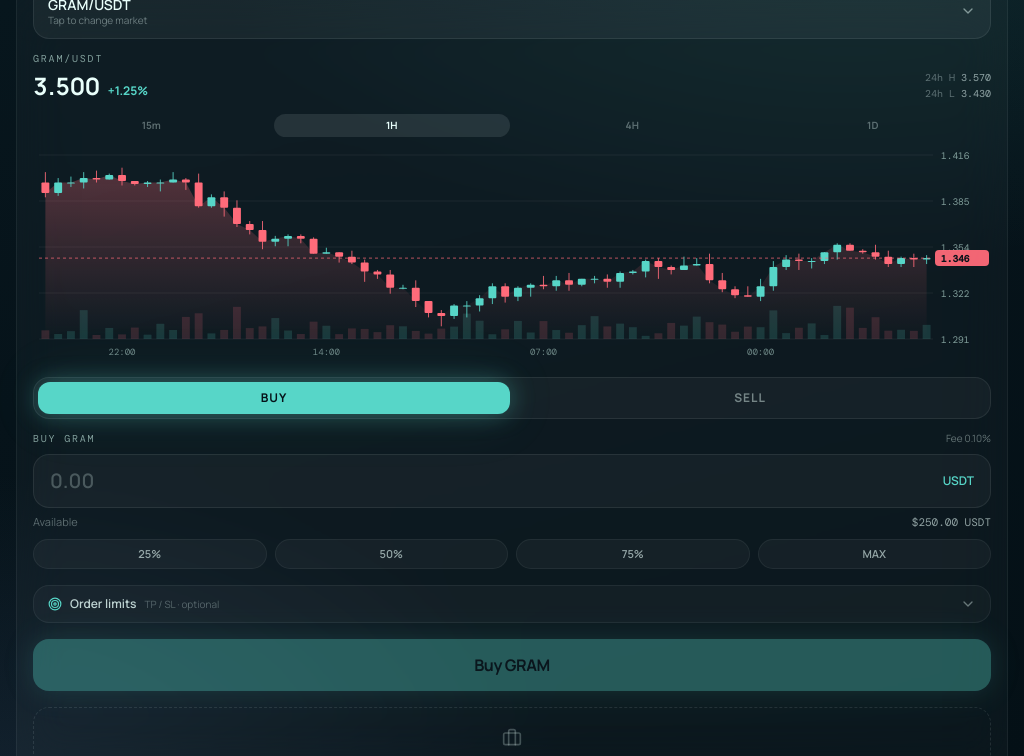
Test case: selling › shows the whole position as the amount to sell
(page scrolled)
Expected: the element with test id "trade-available-balance" shows "$250.00", [912, 515, 958, 529]
Step 1. Type "50" into the number field with test id "trade-amount-input" → [492, 481], box [50, 467, 935, 495]
(page scrolled)
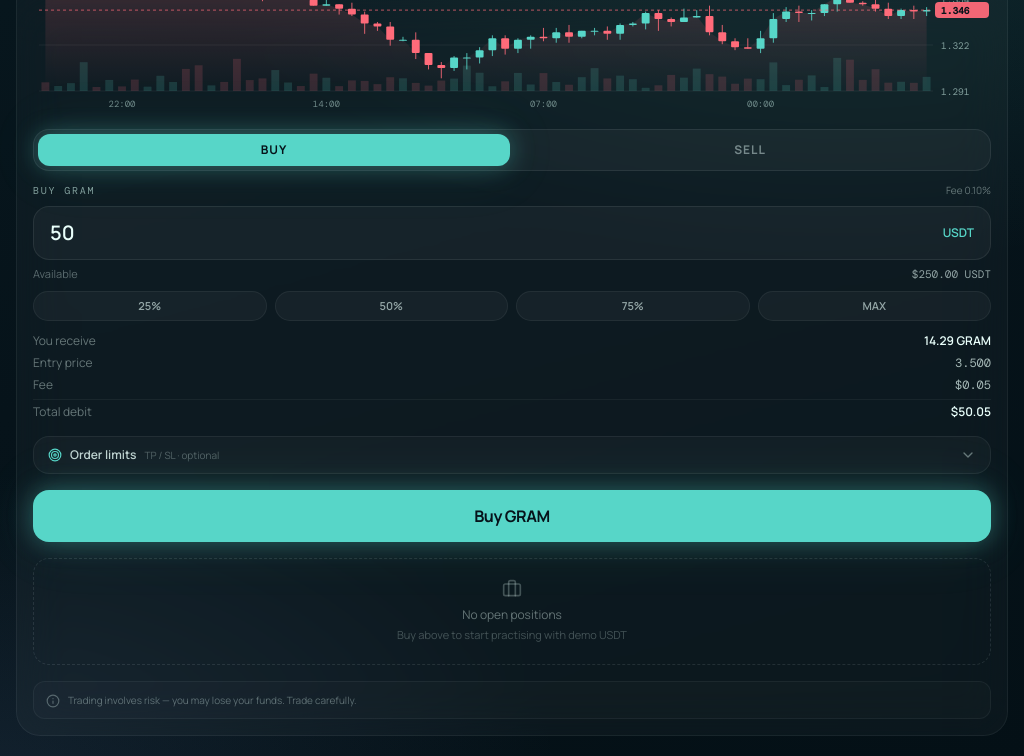
Expected: the text with test id "trade-preview-qty" reads "14.29 GRAM", [924, 333, 991, 349]
Step 2. Click the button with test id "trade-buy-submit" → [512, 516], box [33, 490, 991, 542]
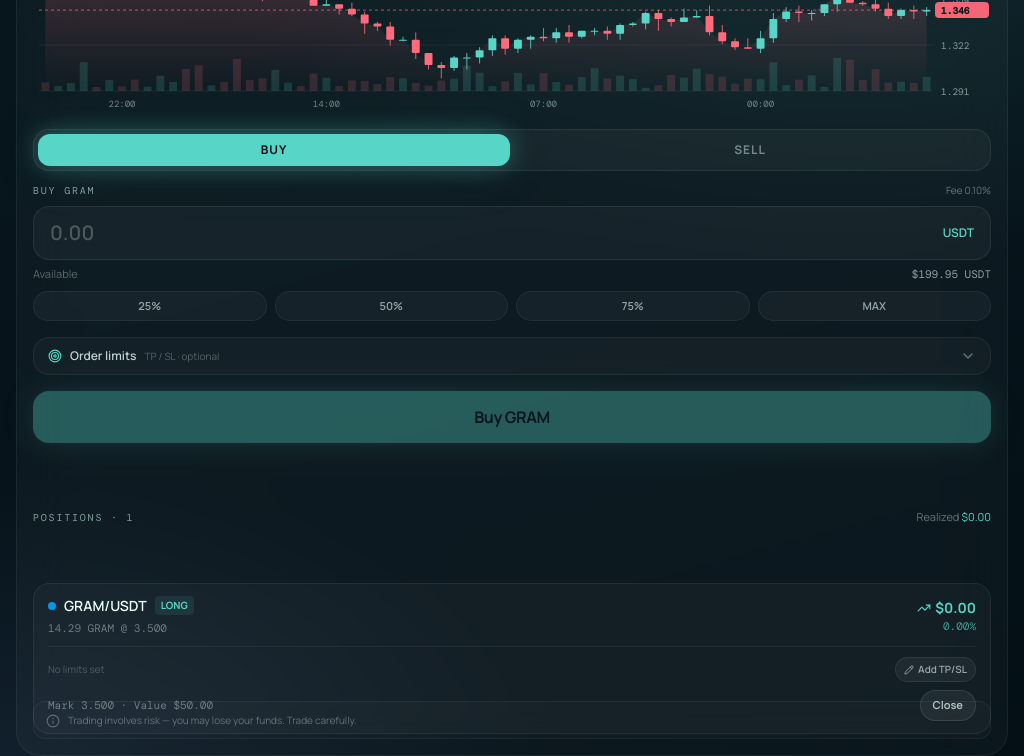
Expected: the element with test id "position-TONUSDT" is shown, [33, 582, 991, 734]
Step 3. Click the button with test id "trade-side-sell" → [750, 150], box [514, 134, 986, 166]
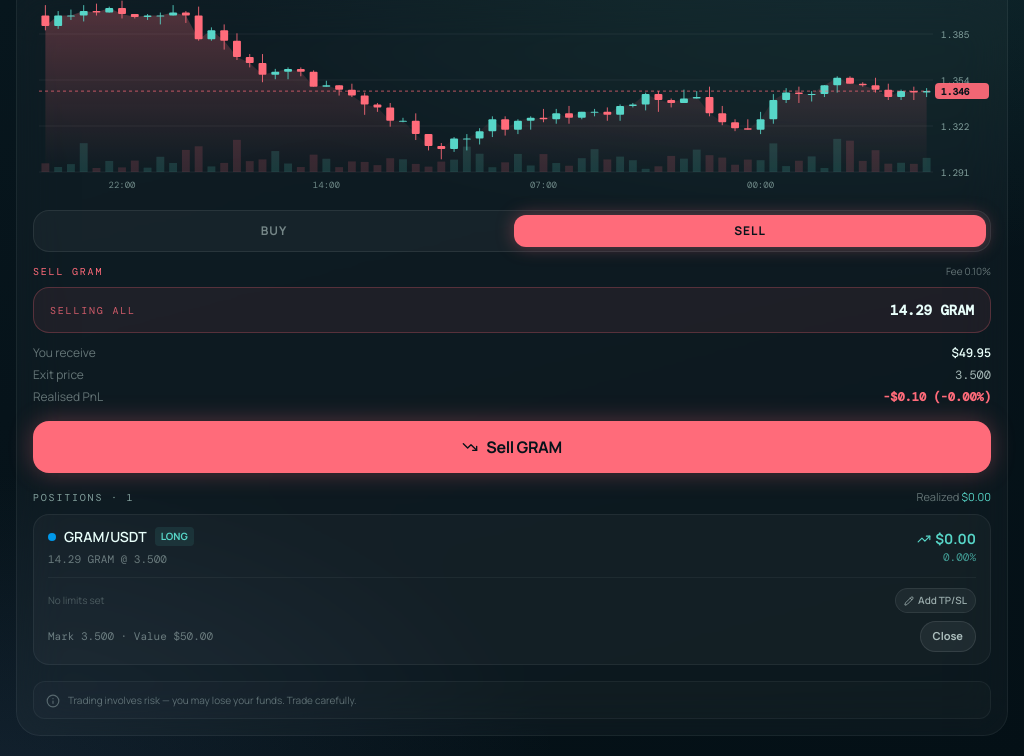
Expected: the element with test id "trade-sell-amount" shows "14.29 GRAM", [33, 287, 991, 333]
Expected: the number field with test id "trade-amount-input" is gone
Expected: the button with test id "trade-preset-100" is gone
